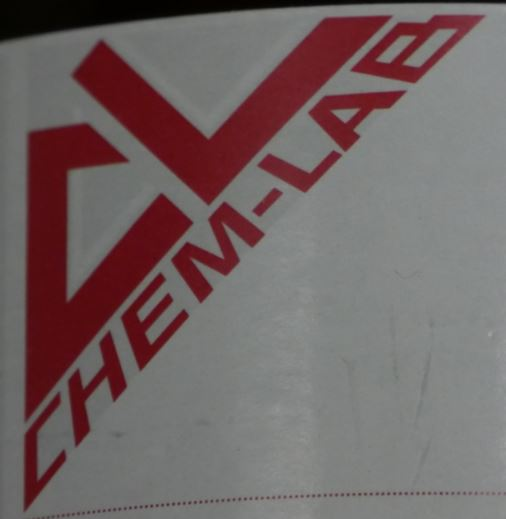ChemLab: (21, 13, 488, 517)
